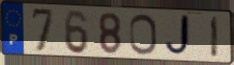6: (62, 8, 90, 56)
7: (30, 6, 55, 54)
8: (97, 11, 123, 55)
I: (210, 14, 220, 60)
J: (163, 13, 193, 59)
O: (128, 13, 159, 57)
